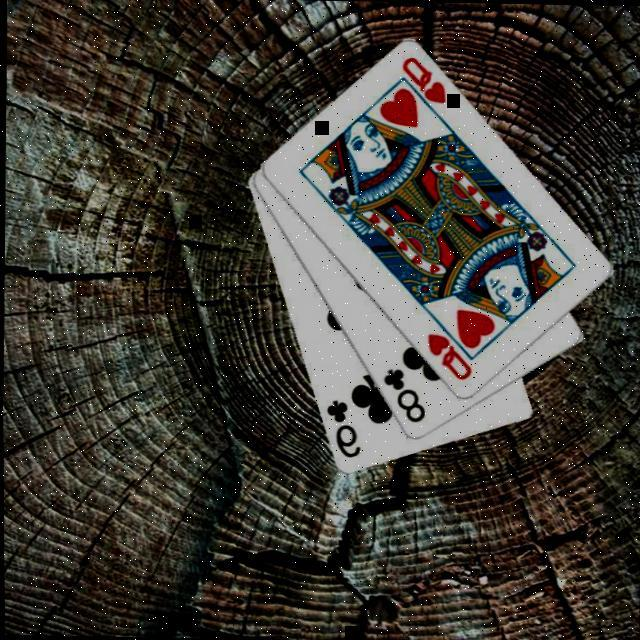6C: (320, 396, 360, 460)
8C: (376, 364, 426, 425)
QH: (394, 52, 448, 120), (421, 330, 472, 382)
